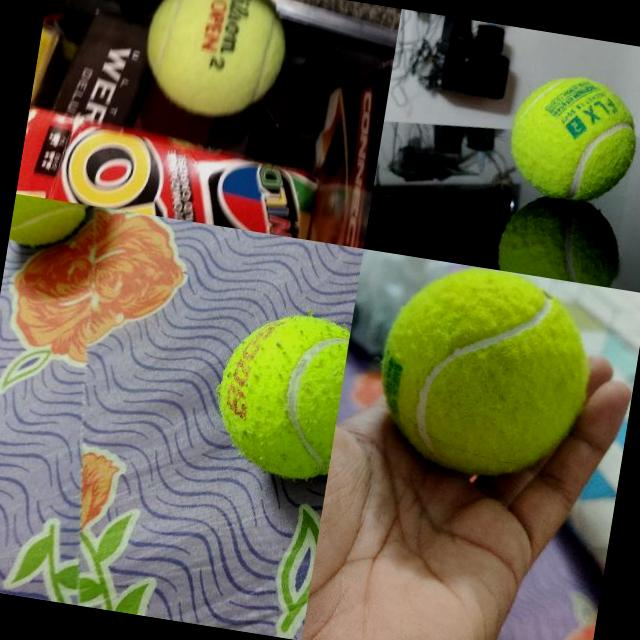Tennis Ball: (365, 255, 604, 490), (207, 303, 351, 486), (134, 0, 296, 129), (501, 67, 640, 209), (8, 194, 90, 255)
